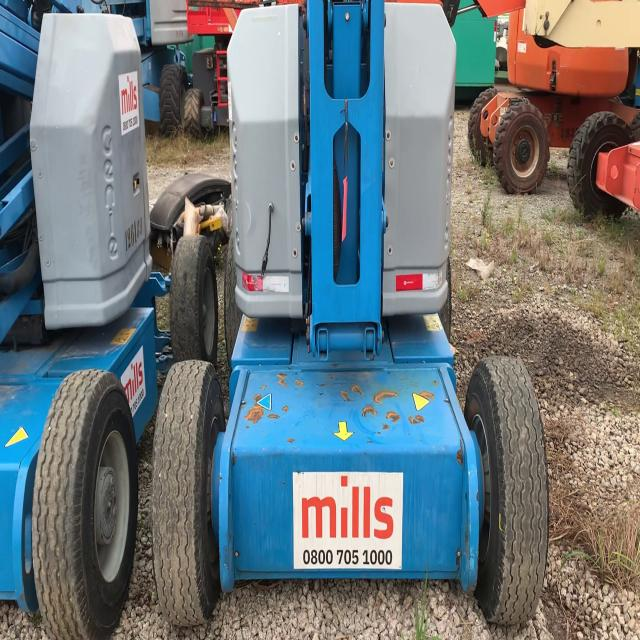Adesivos: (292, 470, 405, 572), (118, 69, 140, 137)
